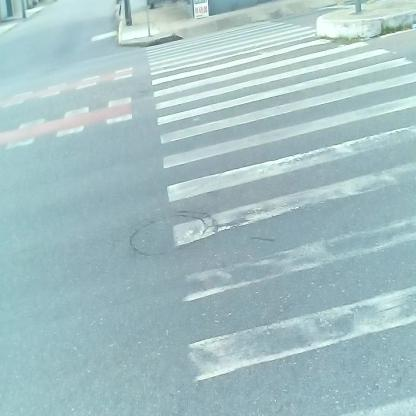crosswalk: (135, 31, 414, 416)
